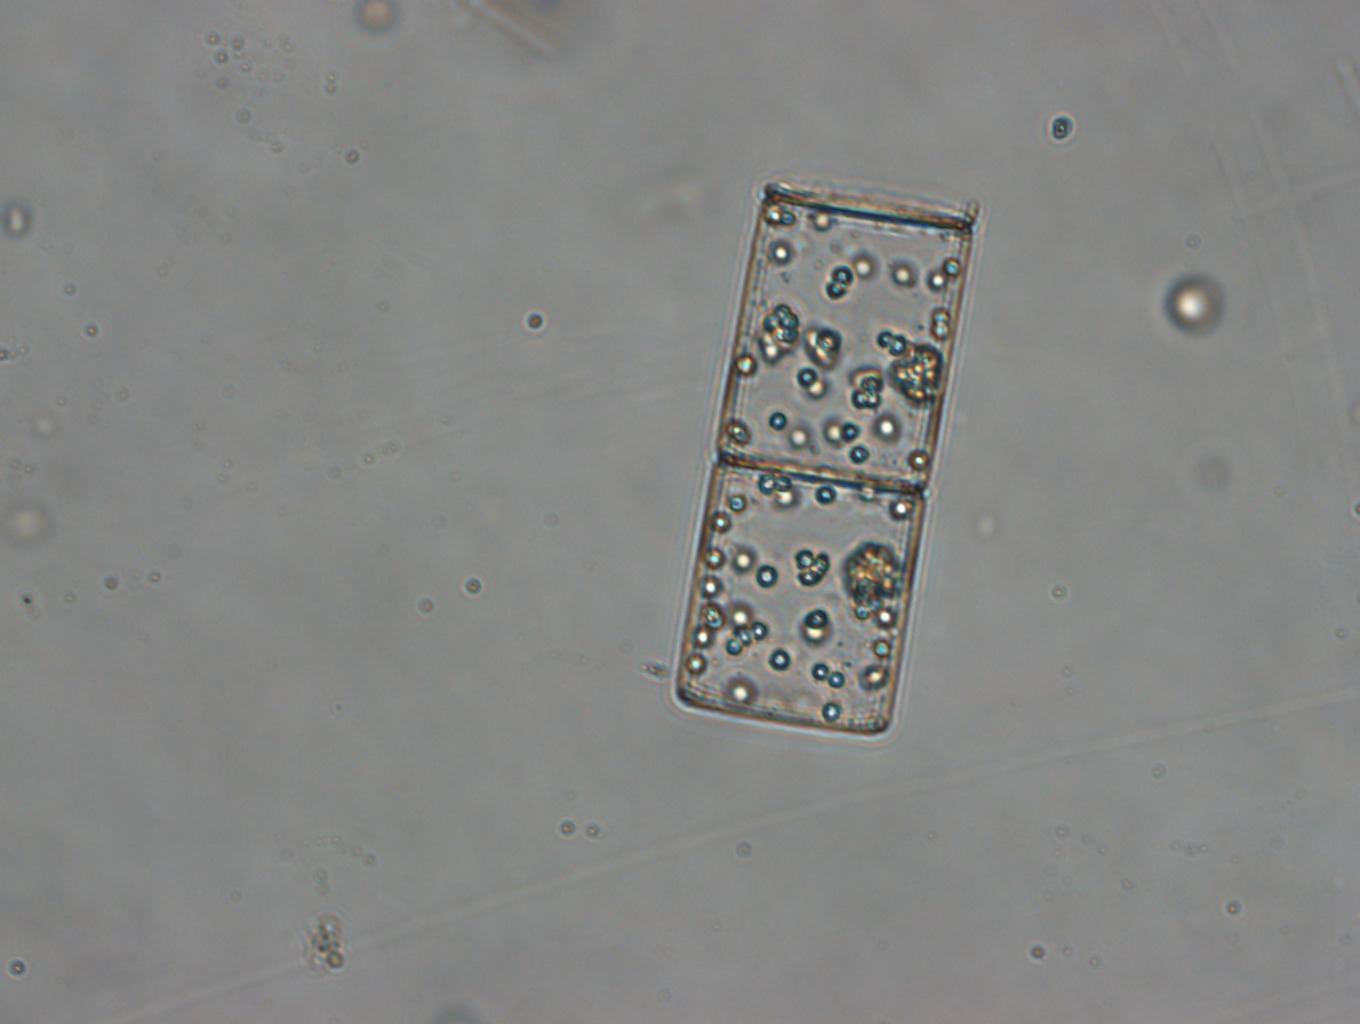guinardia flaccida: (671, 177, 985, 741)
